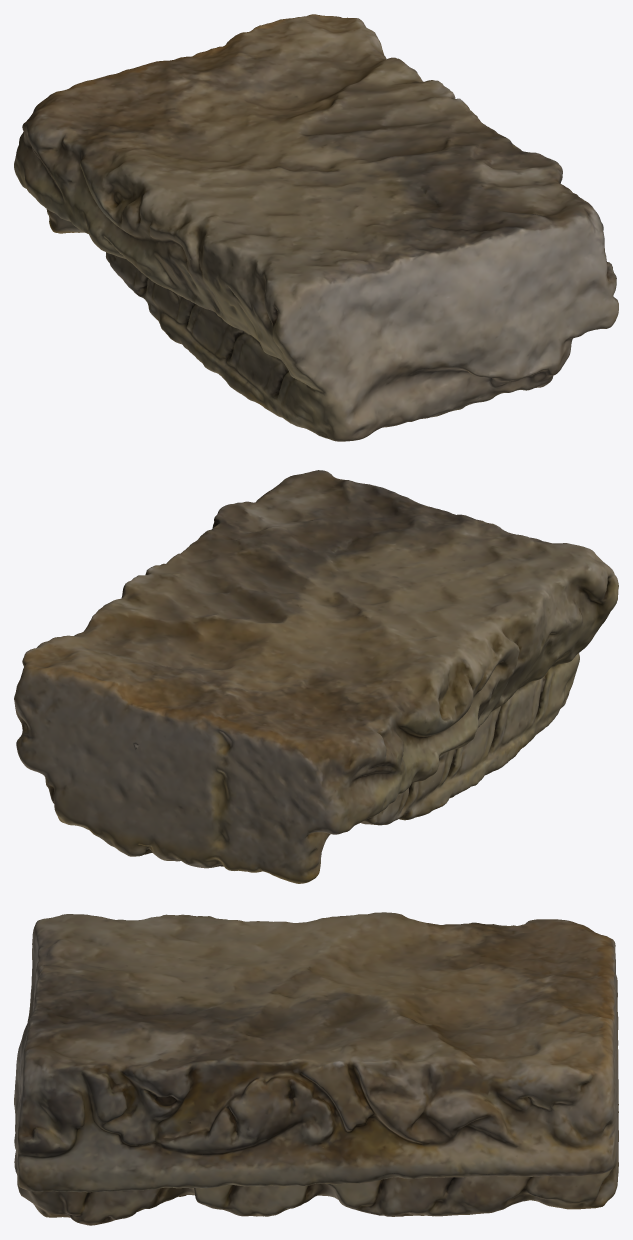
The model's file is Pilastre_QuadricEdgeDecimationX1+preserve+laplacianSmooth.obj.
3 views of the same model, one above another, from view 1: azimuth 30°, elevation 25°; view 2: azimuth 150°, elevation 25°; view 3: azimuth 270°, elevation 25° (orthographic). The views are drawn at different scales.
Size of the model in its own units: 7.24 by 3.72 by 10.37.
